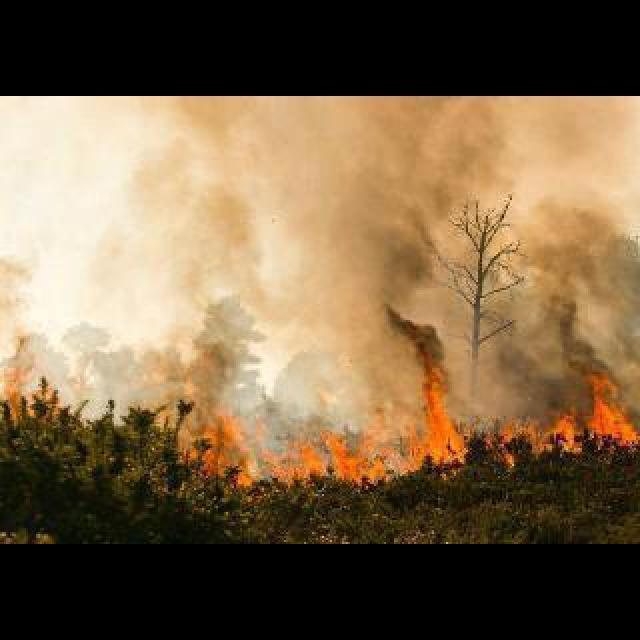Fire: (168, 406, 376, 494), (574, 373, 640, 456), (408, 370, 462, 470)
Smoke: (159, 103, 640, 369)
